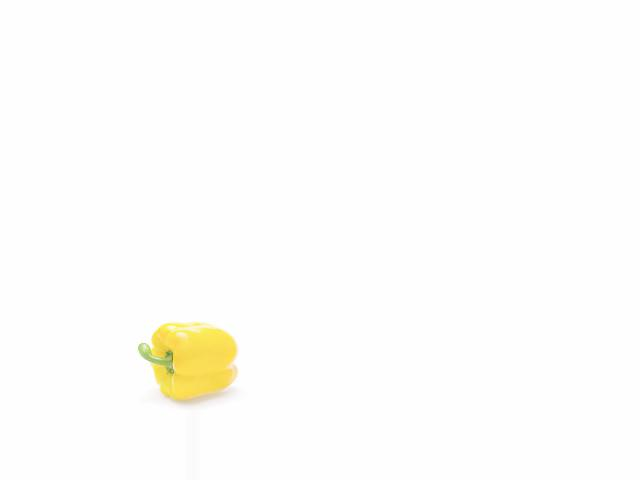bell_pepper: (129, 317, 241, 399)
